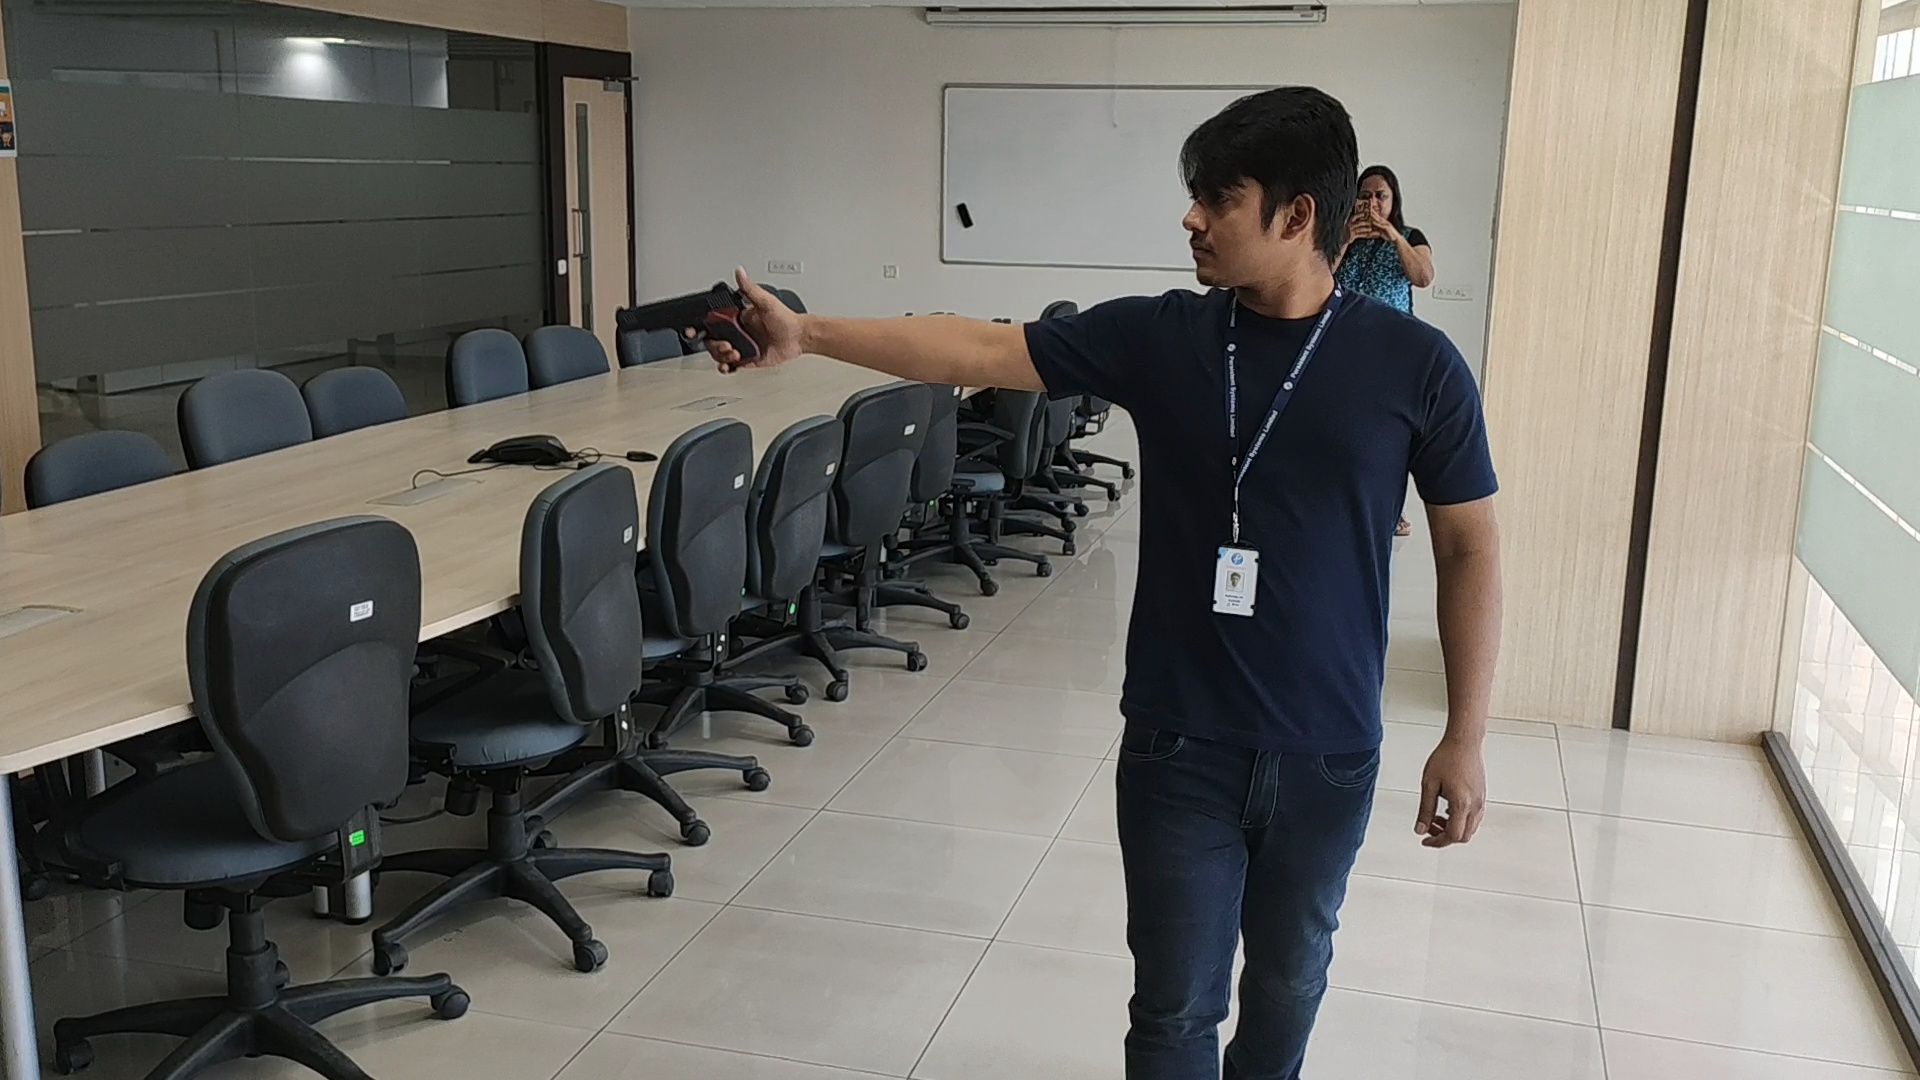gun: (611, 278, 764, 373)
